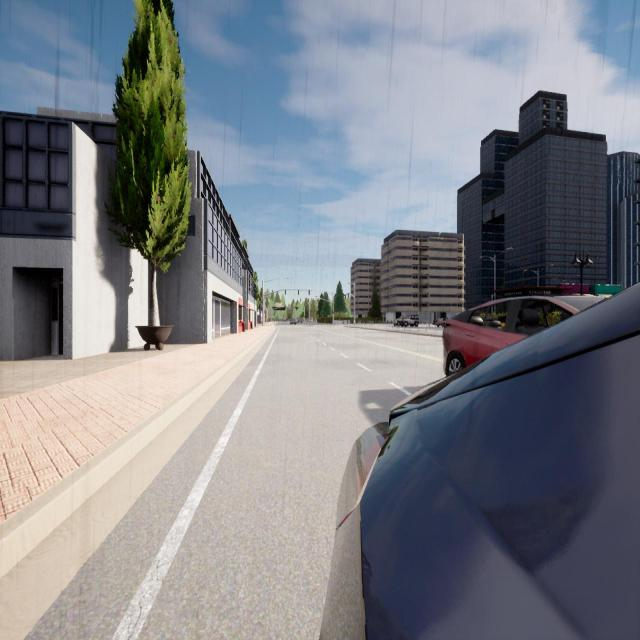Vehicle: (321, 284, 639, 638), (443, 297, 606, 375), (394, 314, 418, 327), (437, 319, 443, 327), (290, 319, 296, 325), (298, 318, 302, 324)
traffic_light: (332, 310, 334, 314), (345, 294, 346, 299), (309, 290, 310, 295), (298, 290, 299, 295), (348, 293, 349, 298), (308, 298, 309, 302), (285, 290, 286, 294), (301, 298, 301, 302), (318, 300, 318, 302)
